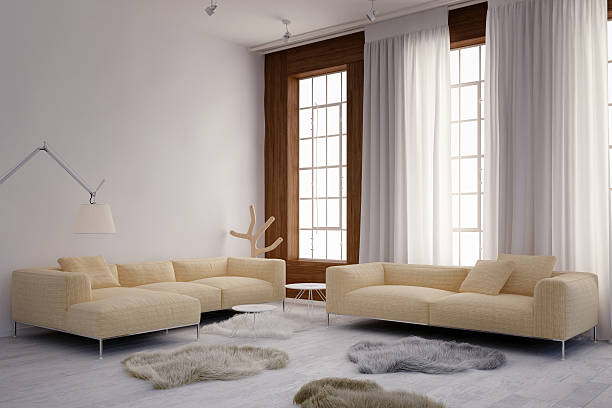floor lamp: (1, 137, 120, 240)
sofa: (323, 252, 600, 363), (8, 253, 288, 359)
table: (232, 301, 282, 339), (285, 281, 329, 318)
